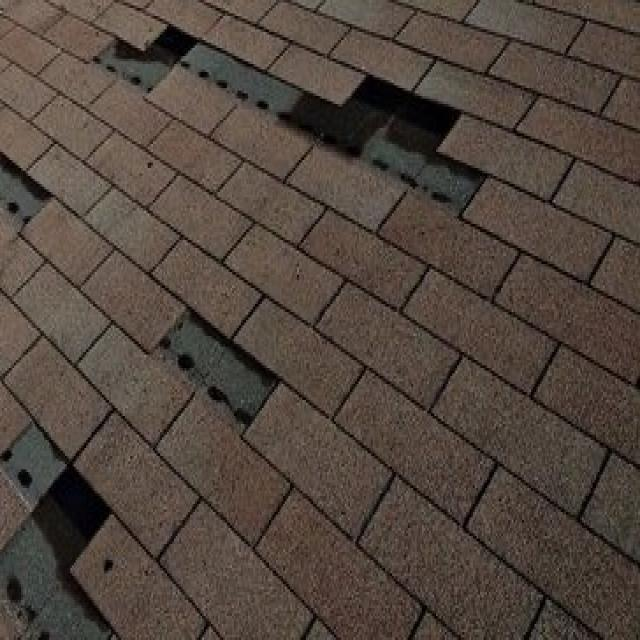trou: (90, 13, 492, 220), (0, 407, 122, 640), (135, 300, 290, 439), (0, 144, 59, 266)
